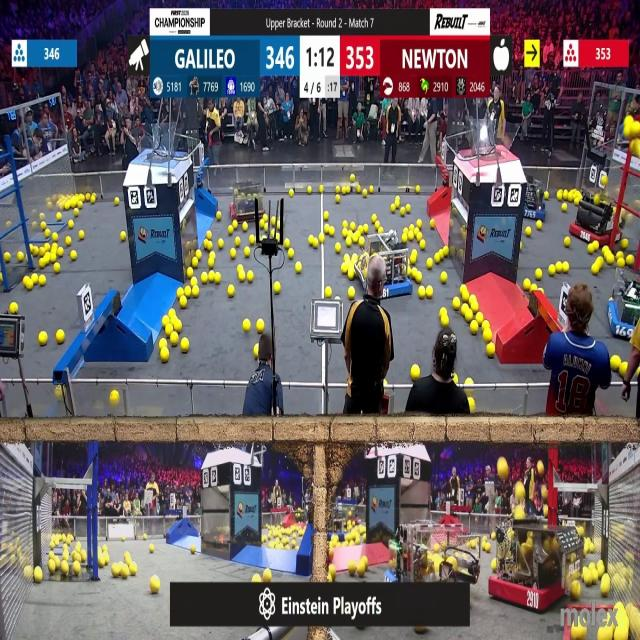ball_airborne: (497, 458, 508, 478), (624, 122, 634, 139), (516, 484, 526, 499), (630, 140, 639, 156), (632, 122, 640, 140), (517, 509, 525, 522), (537, 461, 544, 475), (540, 487, 547, 500), (602, 174, 608, 185), (541, 504, 547, 515)
ball_ground: (149, 578, 159, 594), (34, 567, 43, 582), (264, 568, 273, 583), (412, 364, 421, 379), (180, 339, 189, 353), (57, 331, 66, 345), (110, 391, 118, 406), (39, 333, 47, 347), (162, 348, 170, 362), (171, 334, 179, 348), (112, 563, 120, 577), (62, 561, 70, 575), (487, 344, 495, 357), (274, 281, 282, 294), (469, 321, 477, 334), (25, 277, 33, 290), (72, 562, 80, 575), (610, 356, 618, 369), (357, 564, 365, 577), (121, 564, 128, 578), (72, 552, 81, 562), (190, 286, 198, 297), (442, 316, 450, 327), (452, 297, 460, 308), (348, 288, 356, 299), (426, 286, 433, 298), (244, 320, 251, 332), (328, 564, 335, 576), (256, 320, 263, 332), (131, 563, 138, 575), (227, 284, 234, 296), (99, 555, 106, 567), (9, 304, 17, 314), (627, 254, 635, 264), (596, 256, 604, 266), (48, 560, 54, 573), (230, 248, 237, 259), (524, 280, 531, 291), (202, 273, 209, 284), (593, 265, 600, 276), (324, 287, 331, 298), (180, 296, 187, 307), (175, 321, 182, 332), (294, 263, 300, 275), (419, 286, 425, 298), (416, 272, 422, 284), (214, 273, 220, 285), (246, 272, 253, 282), (184, 286, 191, 296), (606, 254, 613, 264), (564, 238, 571, 248), (4, 252, 11, 262), (412, 252, 418, 263), (442, 273, 448, 284), (239, 271, 245, 282), (244, 247, 251, 256), (163, 316, 170, 325), (535, 270, 541, 280), (55, 264, 61, 274), (39, 276, 45, 286), (58, 246, 64, 256), (16, 252, 22, 262), (66, 237, 72, 247), (622, 240, 628, 250), (186, 268, 192, 278), (472, 302, 478, 312), (434, 253, 440, 263), (427, 260, 433, 270), (70, 250, 76, 260), (208, 273, 214, 283), (465, 378, 472, 386), (119, 233, 125, 242), (536, 220, 542, 229), (78, 232, 84, 241), (410, 233, 416, 242), (204, 240, 210, 249), (619, 258, 625, 267), (327, 574, 333, 583), (288, 248, 293, 258), (190, 278, 197, 285), (217, 240, 223, 248), (399, 208, 405, 216), (358, 238, 364, 246), (50, 254, 56, 262), (312, 240, 318, 248), (429, 219, 435, 227), (359, 526, 365, 534), (318, 236, 324, 244), (417, 232, 422, 241), (178, 287, 183, 296), (402, 235, 407, 244), (206, 233, 212, 240), (618, 251, 624, 258), (318, 185, 324, 192), (150, 544, 154, 554), (347, 239, 352, 247), (114, 199, 119, 207), (243, 222, 248, 230), (417, 219, 422, 227), (337, 244, 342, 252), (416, 185, 421, 193), (363, 224, 368, 232), (227, 225, 232, 233), (237, 238, 241, 247), (324, 223, 328, 232), (142, 533, 148, 539), (324, 212, 328, 220), (289, 188, 293, 196), (368, 185, 372, 193), (195, 250, 199, 258), (74, 208, 78, 216), (309, 186, 313, 193), (363, 189, 366, 196)
goal: (463, 124, 518, 160), (134, 132, 188, 160)
robot_blue: (356, 230, 414, 298), (521, 183, 546, 220)
robot_red: (489, 520, 564, 614), (572, 188, 614, 248), (230, 184, 264, 223)
